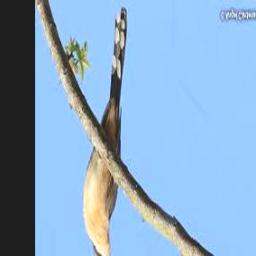Cuckoo: (83, 8, 127, 256)
